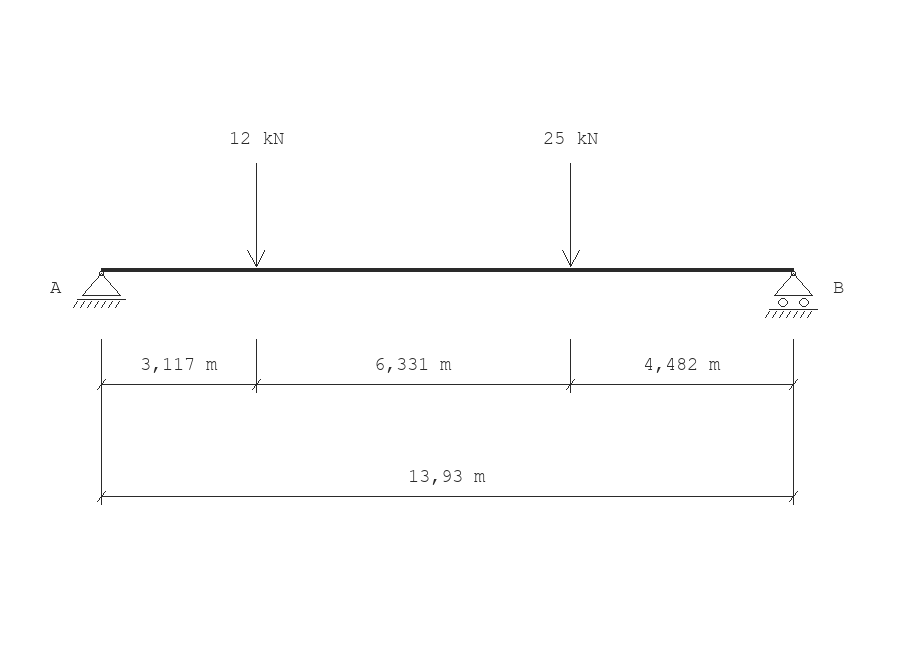pin_support: (73, 271, 126, 308)
point_load: (247, 163, 265, 267), (562, 163, 580, 267)
roller_support: (765, 271, 818, 318)
